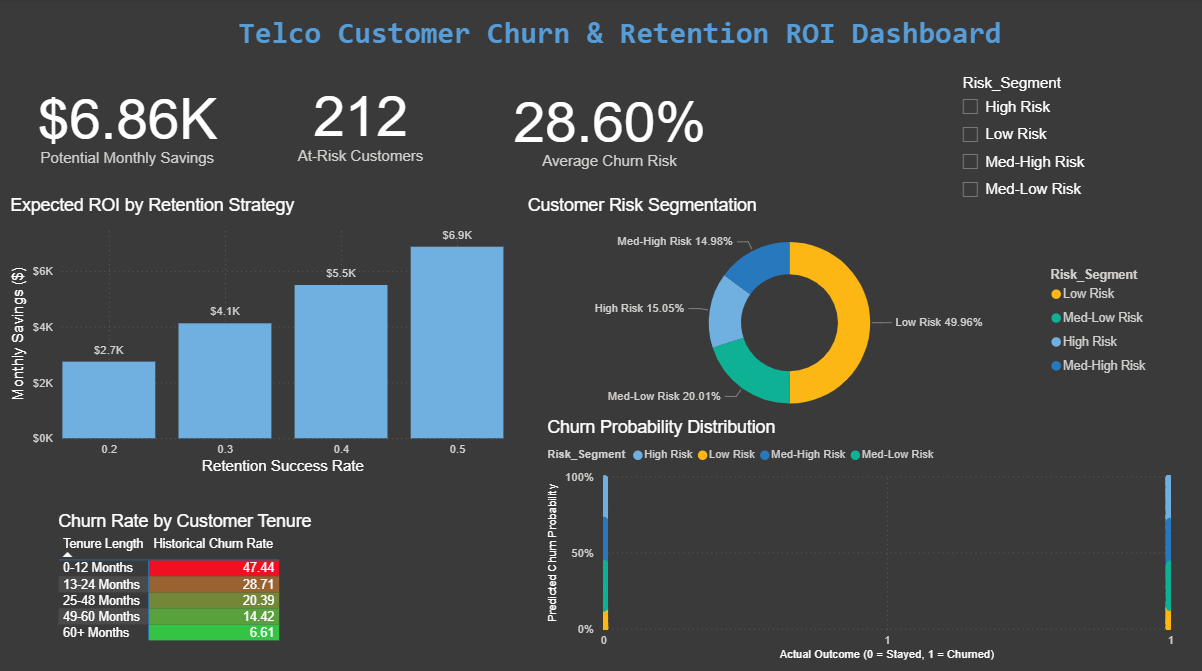

The dashboard page shown, as its layout file describes it:
{"tool":"powerbi","page":{"name":"Page 1","canvas":[1280,720],"ordinal":0},"visuals":[{"type":"card","fields":{"Values":["Max(roi_calculator.Monthly_Saved_USD)"]},"box":[27,77.9,225.9,109.8],"z":0},{"type":"card","fields":{"Values":["Max(roi_calculator.High_Risk_Customers)"]},"box":[252.9,76.3,268.8,108.2],"z":1000},{"type":"card","fields":{"Values":["Avg(predictions.Churn_Probability)"]},"box":[521.7,76.3,259.3,119.3],"z":2000},{"type":"clusteredColumnChart","title":"Expected ROI by Retention Strategy","fields":{"Y":["Sum(roi_calculator.Monthly_Saved_USD)"],"Category":["roi_calculator.Retention_Rate"]},"box":[11.1,210,532.9,300.6],"z":3000},{"type":"pivotTable","title":"Churn Rate by Customer Tenure","fields":{"Rows":["cohort_churn_analysis.tenure_group"],"Values":["Sum(cohort_churn_analysis.Churn_Rate_Pct)"]},"box":[62,545.6,459.7,162.2],"z":4000},{"type":"donutChart","title":"Customer Risk Segmentation","fields":{"Category":["risk_scorecard.Risk_Segment"],"Y":["Sum(risk_scorecard.Customer_Count)"]},"box":[559.9,210,674.4,249.7],"z":5000},{"type":"scatterChart","title":"Churn Probability Distribution","fields":{"X":["Sum(predictions.Actual)"],"Y":["Sum(predictions.Churn_Probability)"],"Series":["predictions.Risk_Segment"],"Category":["predictions.Index"]},"box":[580.6,445.4,674.4,262.5],"z":6000},{"type":"slicer","fields":{"Values":["predictions.Risk_Segment"]},"box":[1013.2,76.3,182.9,155.9],"z":7000},{"type":"textbox","box":[252.9,14.3,831.9,63.6],"z":8000}]}

Visuals, with their boxes in screenshot pixels (x1, y1, x2, y2), scaled from the page's 1280x720 canvas onto the 1202x671 screenshot:
card - Max(roi_calculator.Monthly_Saved_USD): l=25, t=73, r=237, b=175
card - Max(roi_calculator.High_Risk_Customers): l=237, t=71, r=490, b=172
card - Avg(predictions.Churn_Probability): l=490, t=71, r=733, b=182
"Expected ROI by Retention Strategy" clusteredColumnChart: l=10, t=196, r=511, b=476
"Churn Rate by Customer Tenure" pivotTable: l=58, t=508, r=490, b=660
"Customer Risk Segmentation" donutChart: l=526, t=196, r=1159, b=428
"Churn Probability Distribution" scatterChart: l=545, t=415, r=1179, b=660
slicer - predictions.Risk_Segment: l=951, t=71, r=1123, b=216
textbox: l=237, t=13, r=1019, b=73
